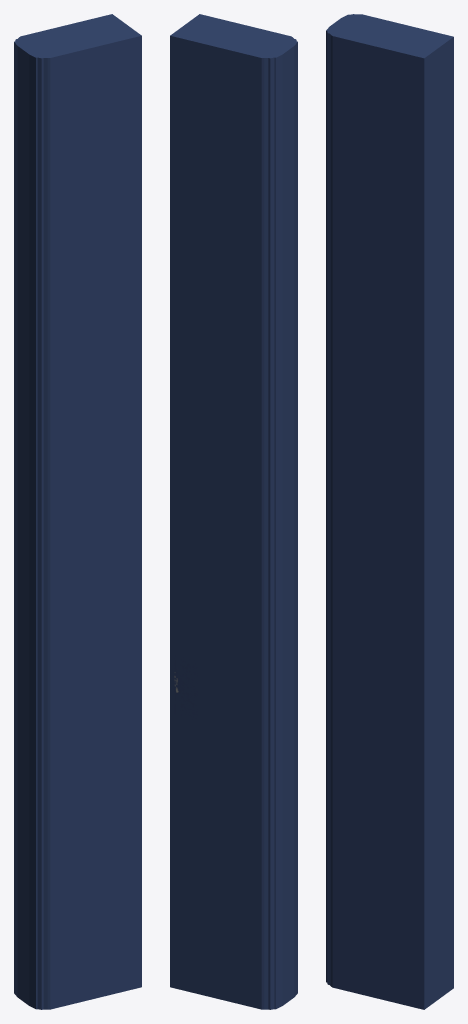
The picture shows the model from 3 angles, left to right: view 1: azimuth 30°, elevation 25°; view 2: azimuth 150°, elevation 25°; view 3: azimuth 330°, elevation 25°; orthographic projection.
Visible parts, largest first — view 1: Blue single marina glazed door vertical stile.001; view 2: Blue single marina glazed door vertical stile.001; view 3: Blue single marina glazed door vertical stile.001.
Part boxes in pixels (x1,y1,x2,y2): Blue single marina glazed door vertical stile.001: (14,14,141,1009); Blue single marina glazed door vertical stile.001: (170,14,297,1009); Blue single marina glazed door vertical stile.001: (326,14,453,1009).
Size of the model in its own units: 0.1999 by 1.75 by 0.099.
2 materials, 1 textured.
